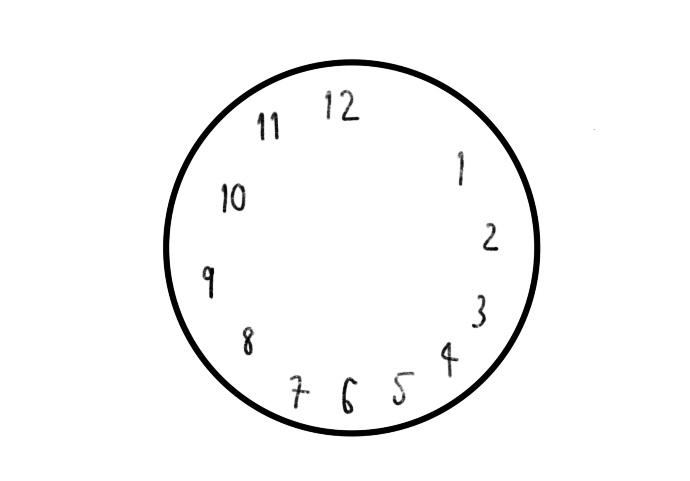eight: (239, 321, 260, 361)
eleven: (257, 105, 282, 142)
five: (393, 369, 415, 406)
four: (436, 340, 460, 378)
nine: (201, 261, 219, 300)
one: (450, 150, 469, 189)
seven: (285, 368, 311, 412)
six: (337, 376, 360, 414)
ten: (218, 180, 247, 215)
three: (470, 289, 492, 332)
twelve: (323, 84, 362, 125)
two: (480, 219, 503, 255)
